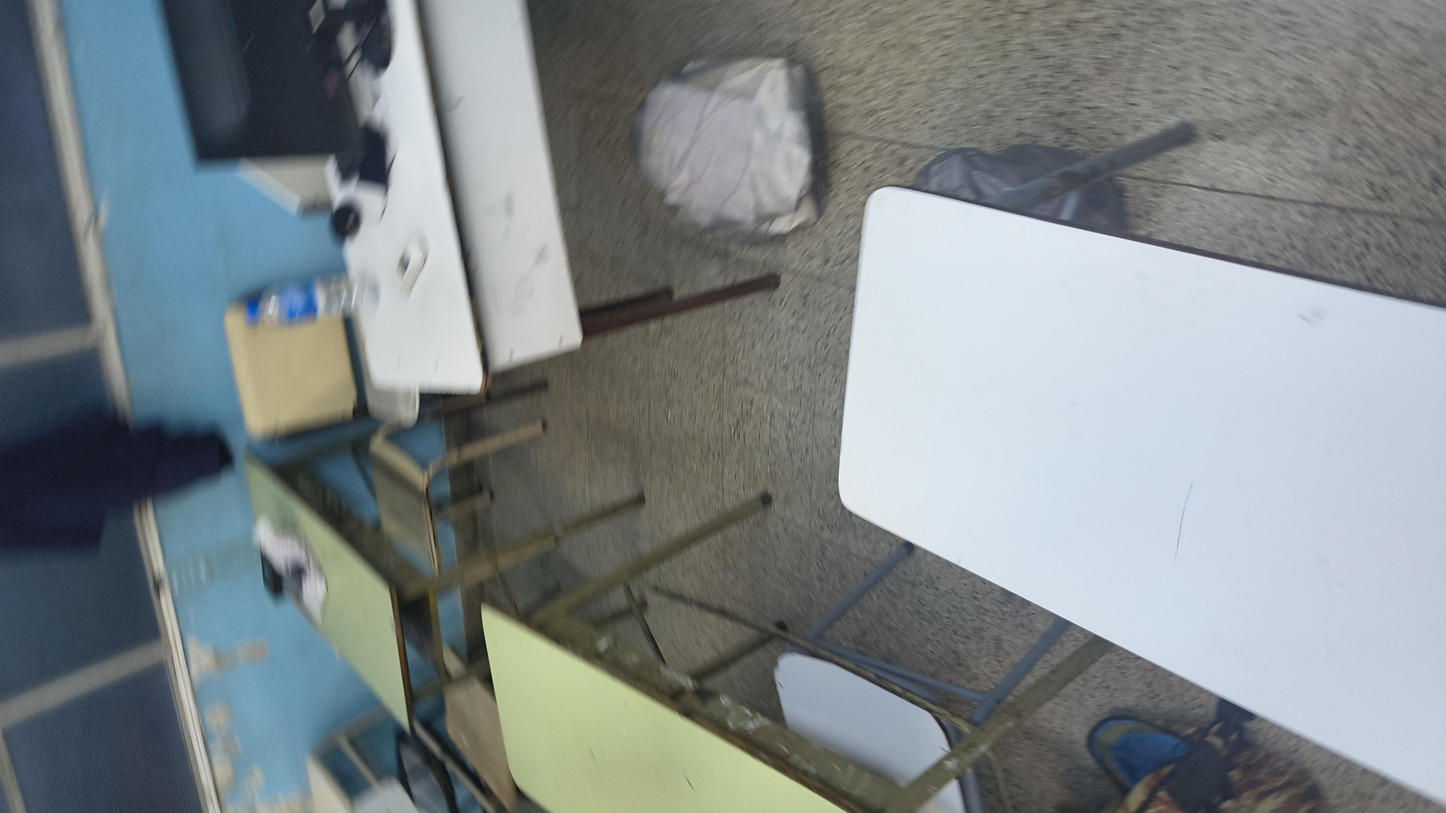Garbage: (985, 333, 1393, 472)
